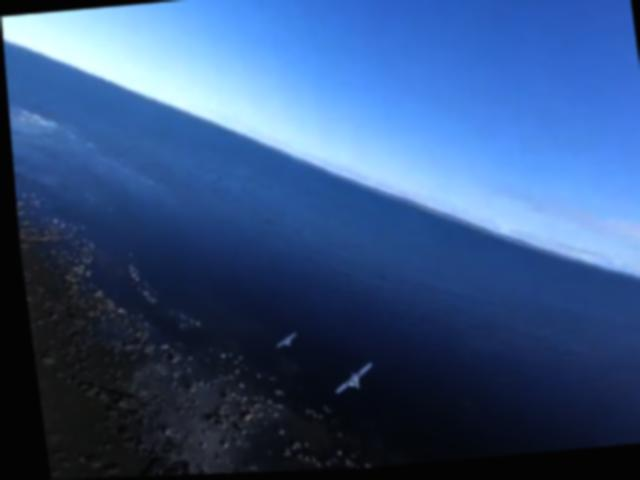uav: (321, 362, 372, 398), (268, 333, 294, 354)
